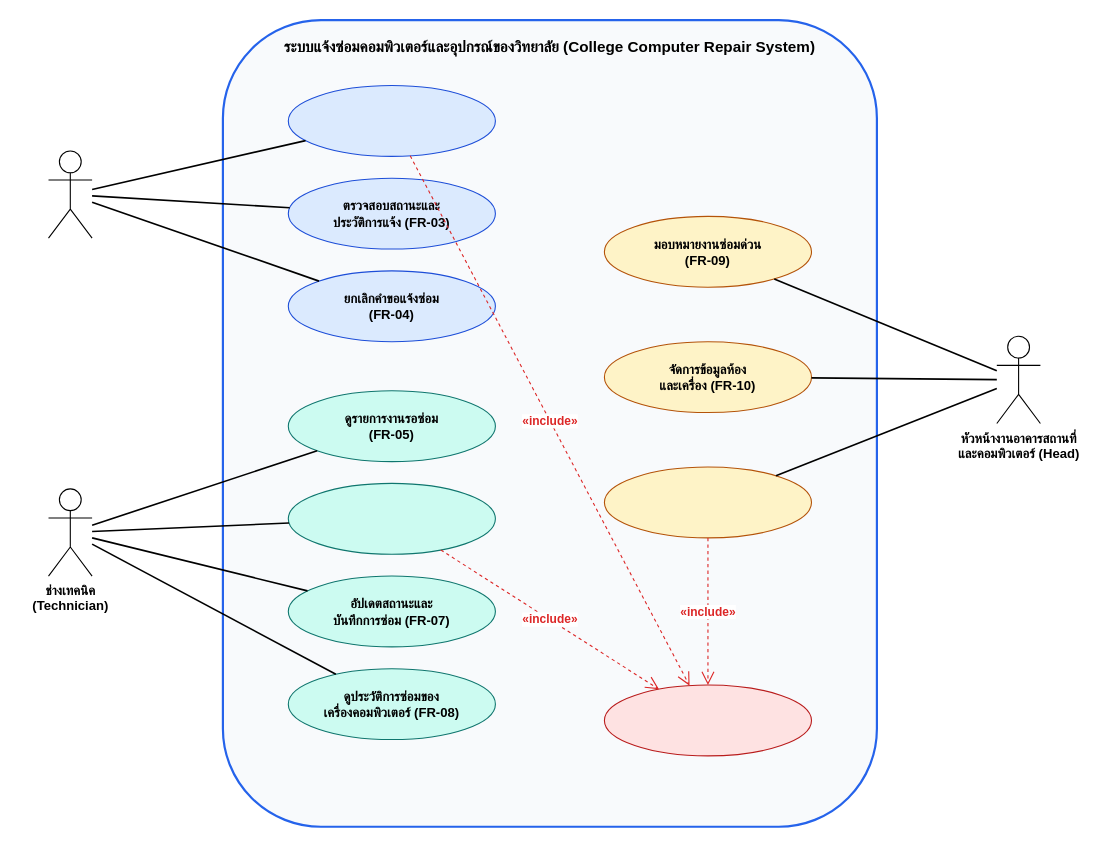
This 1098x846 diagram has some shape labels left out. The shapes that lost their labels are listed below. From the top down, each one's centre as x and y in pixels, then its label:
At (x=391, y=120): "แจ้งซ่อมคอมพิวเตอร์ (FR-02)".
At (x=69, y=194): "นักศึกษาและครูผู้สอน (ผู้แจ้ง / Reporter)".
At (x=391, y=518): "รับงานซ่อม (FR-06)".
At (x=707, y=502): "ดูรายงานสรุปงานซ่อม แยกตามห้อง (FR-11)".
At (x=707, y=720): "เข้าสู่ระบบ (Login) (FR-01)".
